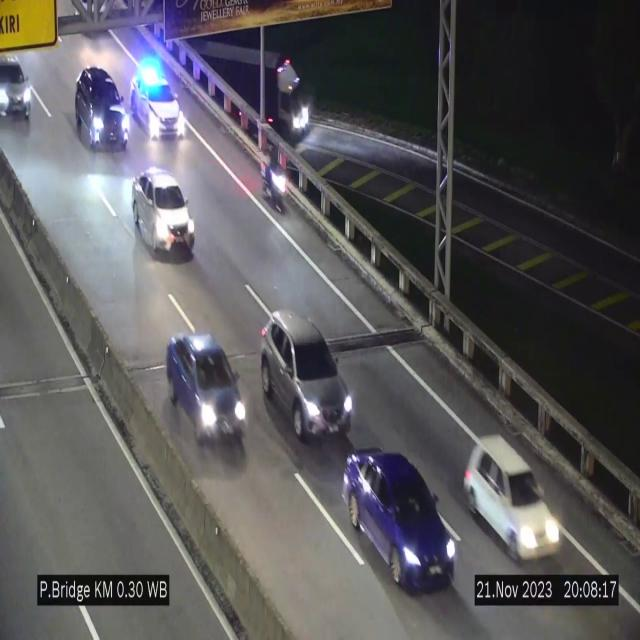Car: (343, 448, 455, 588), (461, 432, 562, 565), (260, 310, 354, 438), (166, 333, 246, 447), (133, 167, 195, 257), (76, 68, 128, 150), (131, 57, 181, 139), (0, 44, 31, 130)
Motorcycle: (264, 148, 286, 212)
Truck: (184, 29, 332, 151)
